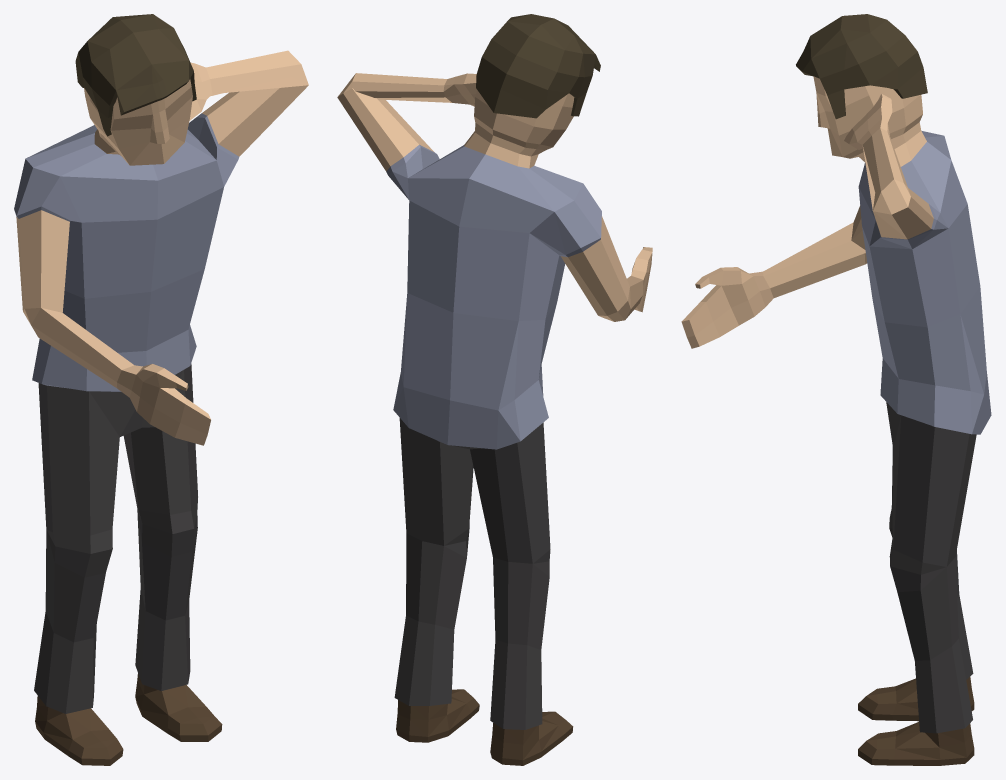
Rendered from Male_DJ_LeftEar.glb.
3 views of the same model, side by side, from view 1: azimuth 30°, elevation 25°; view 2: azimuth 150°, elevation 25°; view 3: azimuth 270°, elevation 25° (orthographic). The views are drawn at different scales.
Parts seen in each view (by area): view 1: Male_DJ_LeftEar; view 2: Male_DJ_LeftEar; view 3: Male_DJ_LeftEar.
Part boxes in pixels (x1,y1,x2,y2): Male_DJ_LeftEar: (14,14,308,765); Male_DJ_LeftEar: (337,14,652,765); Male_DJ_LeftEar: (681,14,991,765).
Size of the model in its own units: 0.7252 by 1.76 by 0.7026.
